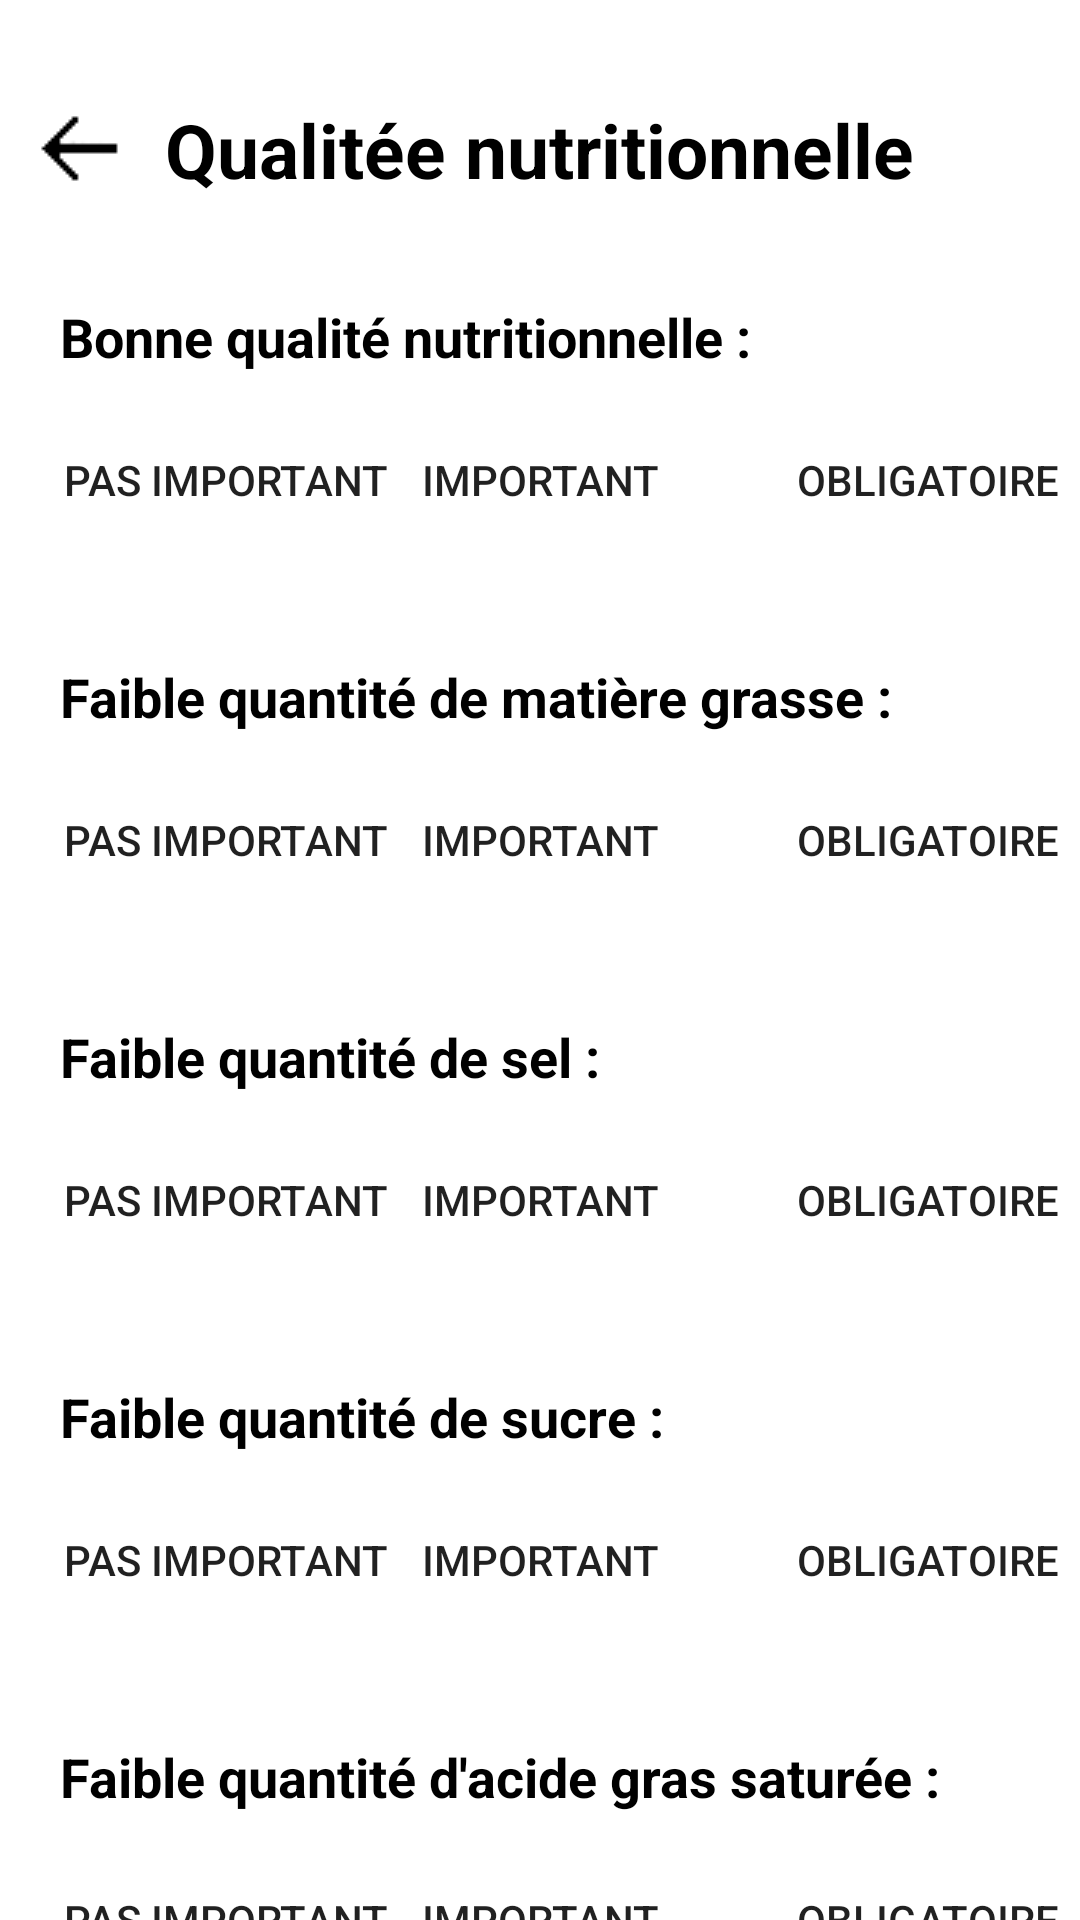

Icons on this 1080x1920 Android screen, each with the point to tap as (x=x, y=y):
backfleche: (x=79, y=148)
